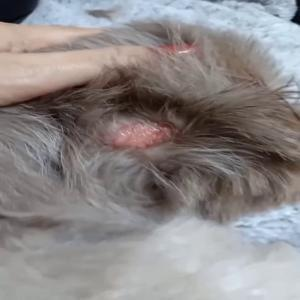skin_lesions: (109, 117, 175, 150)
